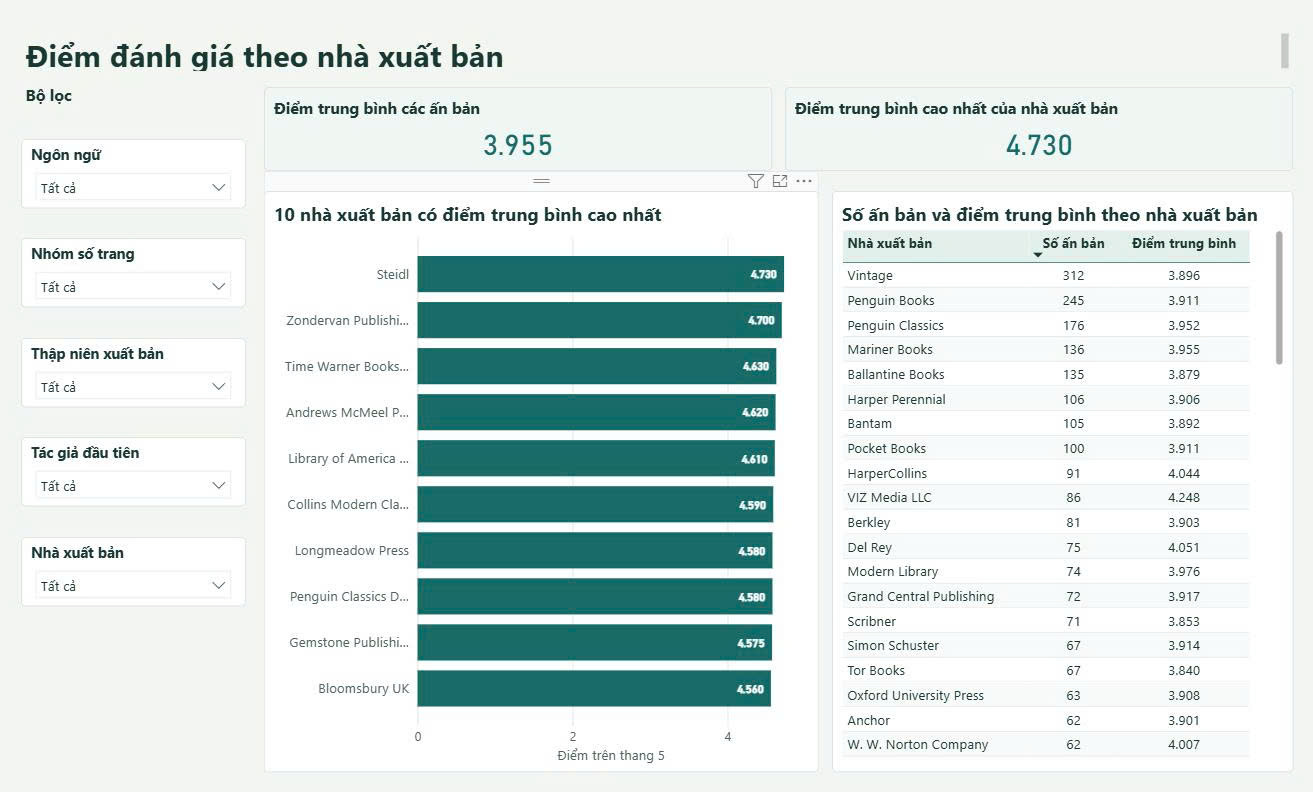

The dashboard page shown, as its layout file describes it:
{"tool":"powerbi","page":{"name":"Nhà xuất bản","canvas":[1440,850],"ordinal":5},"visuals":[{"type":"slicer","title":"Tác giả đầu tiên","fields":{"Values":["Sách.Tác giả đứng tên đầu"]},"box":[24,459,246,76],"z":0},{"type":"clusteredBarChart","title":"10 nhà xuất bản có điểm trung bình cao nhất","fields":{"Category":["Sách.Nhà xuất bản hiển thị"],"Y":["Sách.Điểm trung bình"]},"box":[290,189,607,636],"z":1000},{"type":"textbox","box":[24,67,249,38],"z":2000},{"type":"textbox","box":[24,12,1392,51],"z":3000},{"type":"card","title":"Điểm trung bình các ấn bản","fields":{"Values":["Sách.Điểm trung bình"]},"box":[290,75,556,92],"z":4000},{"type":"card","title":"Điểm trung bình cao nhất của nhà xuất bản","fields":{"Values":["Sách.Điểm trung bình cao nhất của nhà xuất bản"]},"box":[860,75,556,92],"z":5000},{"type":"slicer","title":"Nhà xuất bản","fields":{"Values":["Sách.Nhà xuất bản hiển thị"]},"box":[24,568,246,76],"z":6000},{"type":"tableEx","title":"Số ấn bản và điểm trung bình theo nhà xuất bản","fields":{"Values":["Sách.Nhà xuất bản hiển thị","Sách.Ấn bản có điểm để vẽ","Sách.Điểm trung bình"]},"box":[911,189,505,636],"z":7000},{"type":"slicer","title":"Ngôn ngữ","fields":{"Values":["Sách.Ngôn ngữ"]},"box":[24,132,246,76],"z":8000},{"type":"slicer","title":"Nhóm số trang","fields":{"Values":["Sách.Nhóm số trang"]},"box":[24,241,246,76],"z":9000},{"type":"slicer","title":"Thập niên xuất bản","fields":{"Values":["Kỳ xuất bản.Thập niên"]},"box":[24,350,246,76],"z":10000}]}

Visuals, with their boxes in screenshot pixels (x1, y1, x2, y2), scaled from the page's 1440x850 canvas onto the 1313x792 screenshot:
"Tác giả đầu tiên" slicer: (x1=22, y1=428, x2=246, y2=498)
"10 nhà xuất bản có điểm trung bình cao nhất" clusteredBarChart: (x1=264, y1=176, x2=818, y2=769)
textbox: (x1=22, y1=62, x2=249, y2=98)
textbox: (x1=22, y1=11, x2=1291, y2=59)
"Điểm trung bình các ấn bản" card: (x1=264, y1=70, x2=771, y2=156)
"Điểm trung bình cao nhất của nhà xuất bản" card: (x1=784, y1=70, x2=1291, y2=156)
"Nhà xuất bản" slicer: (x1=22, y1=529, x2=246, y2=600)
"Số ấn bản và điểm trung bình theo nhà xuất bản" tableEx: (x1=831, y1=176, x2=1291, y2=769)
"Ngôn ngữ" slicer: (x1=22, y1=123, x2=246, y2=194)
"Nhóm số trang" slicer: (x1=22, y1=225, x2=246, y2=295)
"Thập niên xuất bản" slicer: (x1=22, y1=326, x2=246, y2=397)
